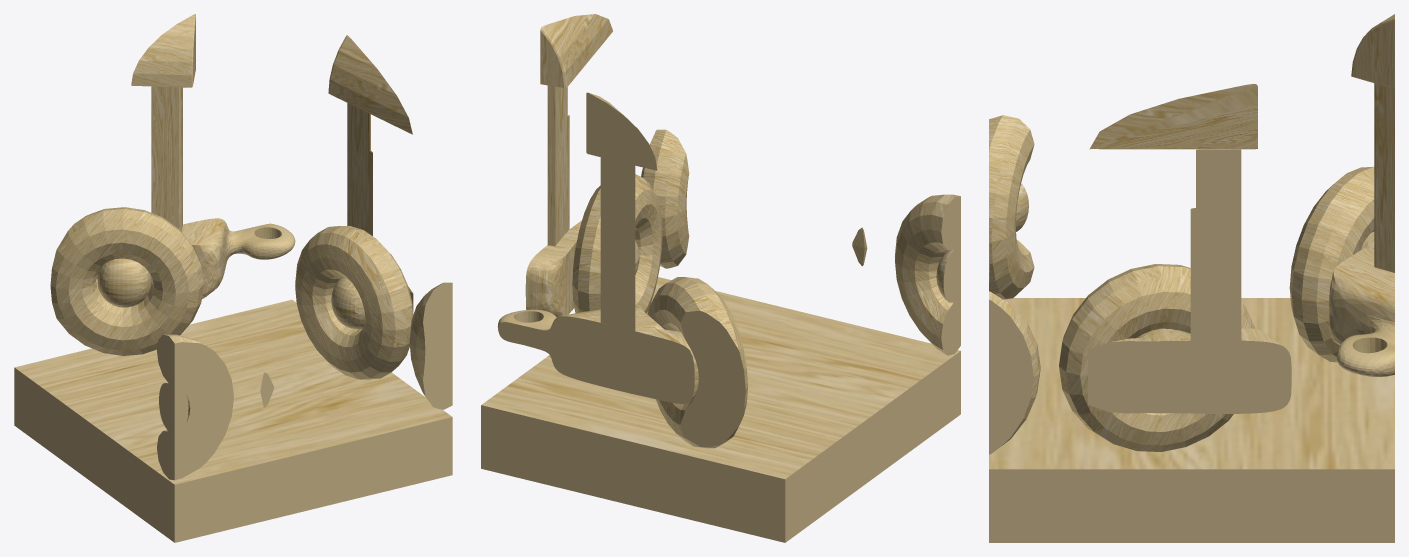
File: 4_Holzbahn.fbx
The picture shows the model from 3 angles, left to right: view 1: azimuth 30°, elevation 25°; view 2: azimuth 150°, elevation 25°; view 3: azimuth 270°, elevation 25°; orthographic projection. The views are drawn at different scales.
Visible parts, largest first — view 1: Cube.032, Cube.045, Cube.041, Cube.036, Cube.044, Cube.040, Cube.043, Cube.037, Cube.042, Cube.038, Cube.039, Cube.013; view 2: Cube.032, Cube.044, Cube.045, Cube.036, Cube.043, Cube.041, Cube.040, Cube.037, Cube.038, Cube.039, Cube.042, Cube.013; view 3: Cube.032, Cube.039, Cube.041, Cube.038, Cube.045, Cube.037, Cube.044, Cube.036, Cube.040, Cube.043, Cube.042.
Boxes of the visible parts, <box> form: Cube.032: <box>14,299,452,542</box>; Cube.045: <box>50,207,203,355</box>; Cube.041: <box>295,226,413,379</box>; Cube.036: <box>157,334,233,480</box>; Cube.044: <box>97,218,295,307</box>; Cube.040: <box>409,282,452,409</box>; Cube.043: <box>151,86,182,231</box>; Cube.037: <box>328,35,412,134</box>; Cube.042: <box>131,14,195,87</box>; Cube.038: <box>347,103,372,235</box>; Cube.039: <box>331,277,413,329</box>; Cube.013: <box>159,383,188,437</box>; Cube.032: <box>481,277,960,542</box>; Cube.044: <box>497,307,698,403</box>; Cube.045: <box>647,277,747,448</box>; Cube.036: <box>895,194,960,355</box>; Cube.043: <box>600,157,635,330</box>; Cube.041: <box>572,174,662,313</box>; Cube.040: <box>641,129,689,268</box>; Cube.037: <box>540,14,612,87</box>; Cube.038: <box>547,85,569,245</box>; Cube.039: <box>525,220,639,317</box>; Cube.042: <box>586,92,657,170</box>; Cube.013: <box>936,243,960,302</box>; Cube.032: <box>989,298,1394,542</box>; Cube.039: <box>1088,328,1291,413</box>; Cube.041: <box>1059,264,1254,451</box>; Cube.038: <box>1190,149,1241,341</box>; Cube.045: <box>1289,166,1374,362</box>; Cube.037: <box>1089,84,1257,149</box>; Cube.044: <box>1329,232,1394,376</box>; Cube.036: <box>989,115,1034,299</box>; Cube.040: <box>989,291,1040,454</box>; Cube.043: <box>1374,83,1394,272</box>; Cube.042: <box>1351,14,1394,88</box>.
Size of the model in its own units: 500 by 632 by 500.
